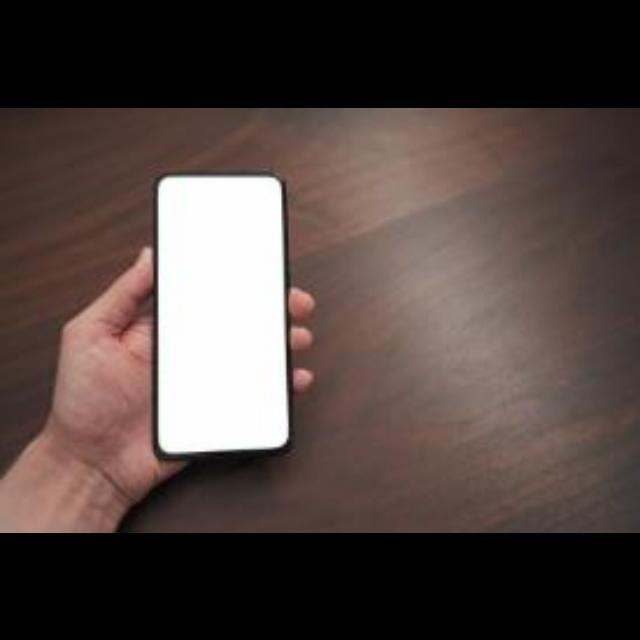PhoneUse: (147, 162, 295, 466)
